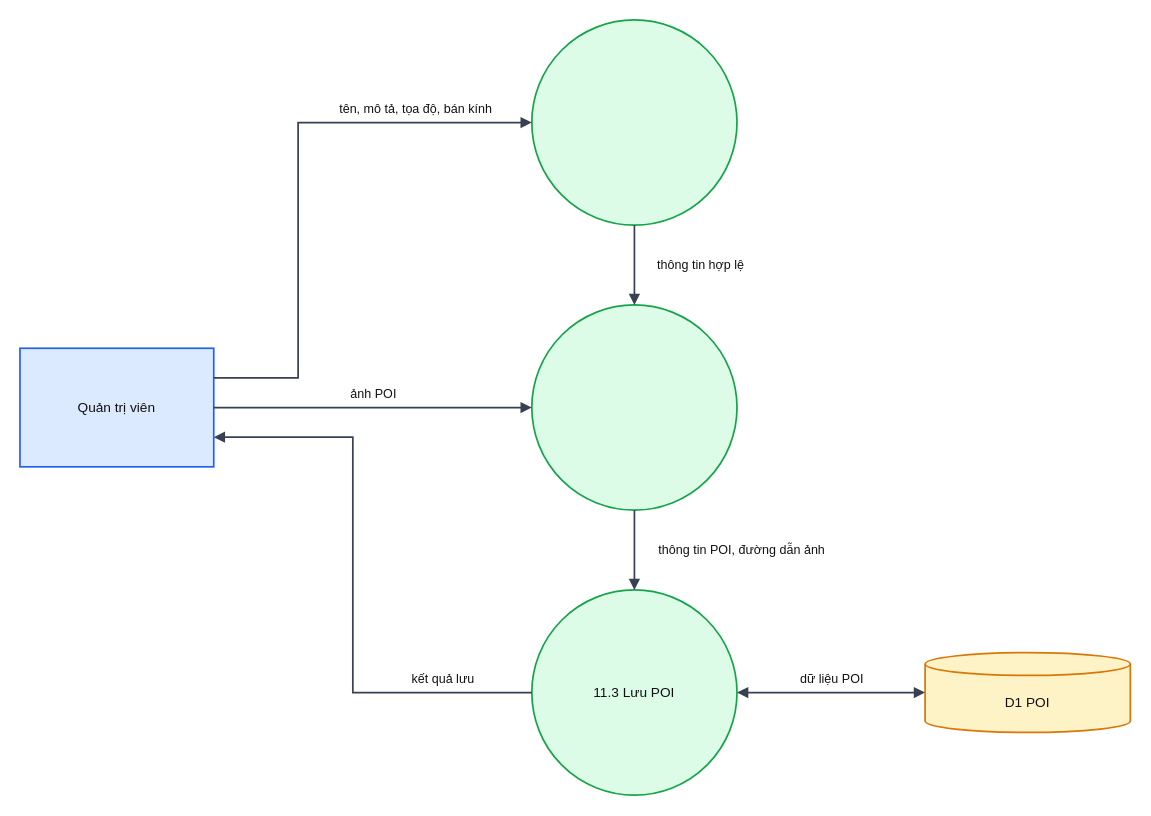
Some shapes in this 1151 by 816 pixel diagram are drawn without their labels. The shapes that lost their labels are listed below. From the top down, each one's box as (x1, y1, x2, y2) in pixels, then its label:
(530, 19, 737, 225): 11.1 Nhập và kiểm tra thông tin POI
(530, 304, 737, 510): 11.2 Tải ảnh lên
